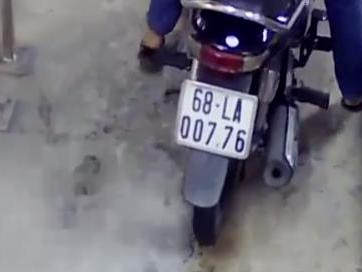num_plate: (177, 79, 253, 159)
